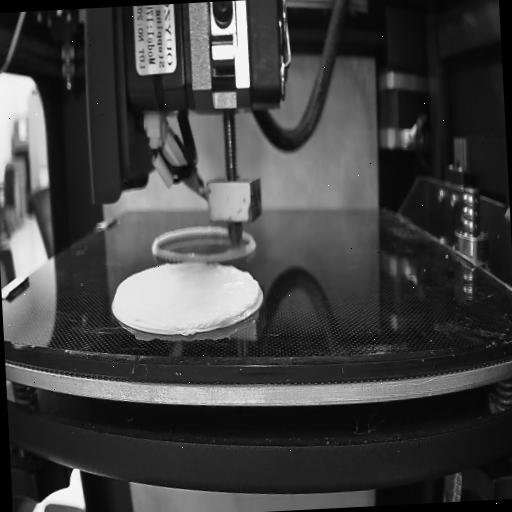over_extrusion: (242, 270, 264, 310)
